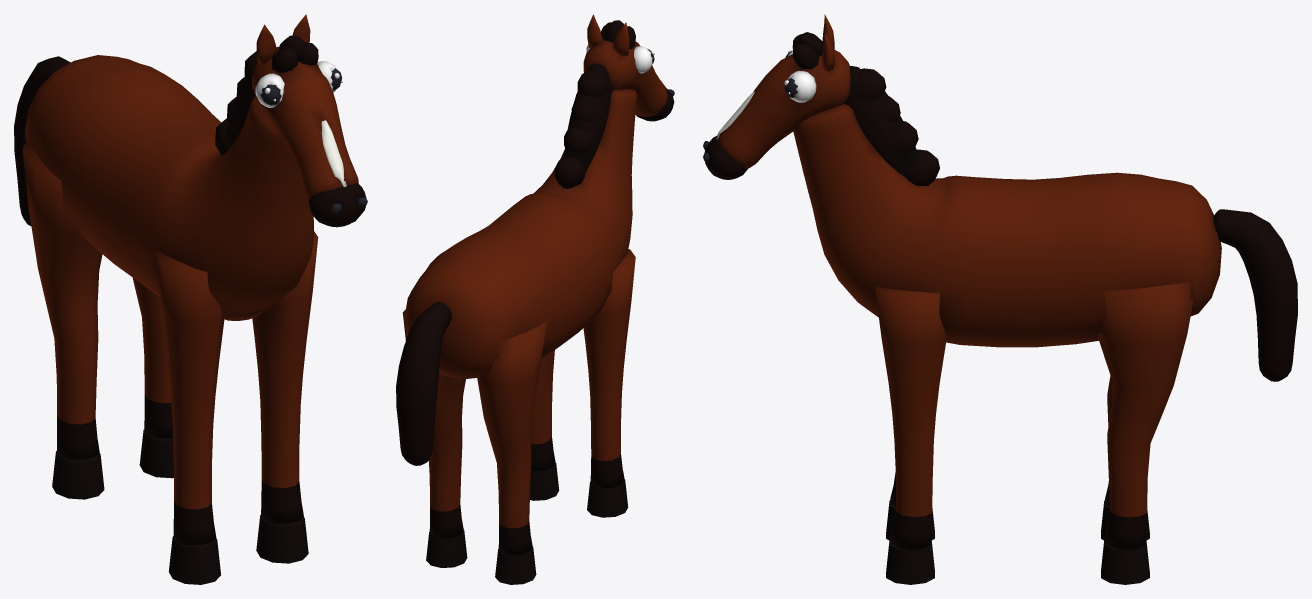
Rendered from Horse.fbx.
3 views of the same model, side by side, from view 1: azimuth 30°, elevation 25°; view 2: azimuth 150°, elevation 25°; view 3: azimuth 270°, elevation 25° (orthographic). The views are drawn at different scales.
Visible parts, largest first — view 1: Horse, Head, Tail; view 2: Horse, Tail, Head; view 3: Horse, Head, Tail.
Part boxes in pixels (x1,y1,x2,y2): Horse: (22,51,318,584); Head: (252,14,367,227); Tail: (14,56,70,225); Horse: (402,63,637,584); Tail: (396,302,452,465); Head: (583,14,674,121); Horse: (793,66,1221,584); Head: (703,14,850,179); Tail: (1213,209,1297,381).
Size of the model in its own units: 0.47 by 1.64 by 1.66.
